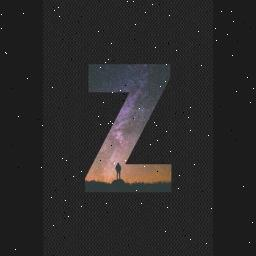z: (79, 59, 181, 201)
